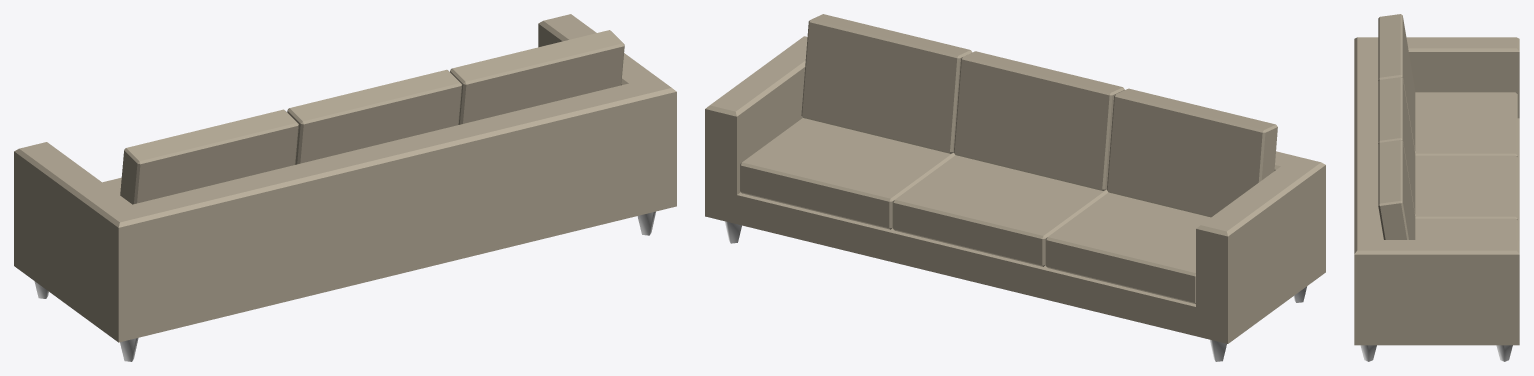
The model's file is Sofa.fbx.
3 renders of one model, left to right at view 1: azimuth 30°, elevation 25°; view 2: azimuth 150°, elevation 25°; view 3: azimuth 270°, elevation 25°, orthographic. The views are drawn at different scales.
Visible parts, largest first — view 1: Sofa; view 2: Sofa; view 3: Sofa.
Boxes of the visible parts, x1,y1,x2,y2 form: Sofa: (14,14,676,361); Sofa: (705,14,1325,361); Sofa: (1354,14,1519,361).
Bounding box in the file's own units: 202 × 66.9 × 65.65.
